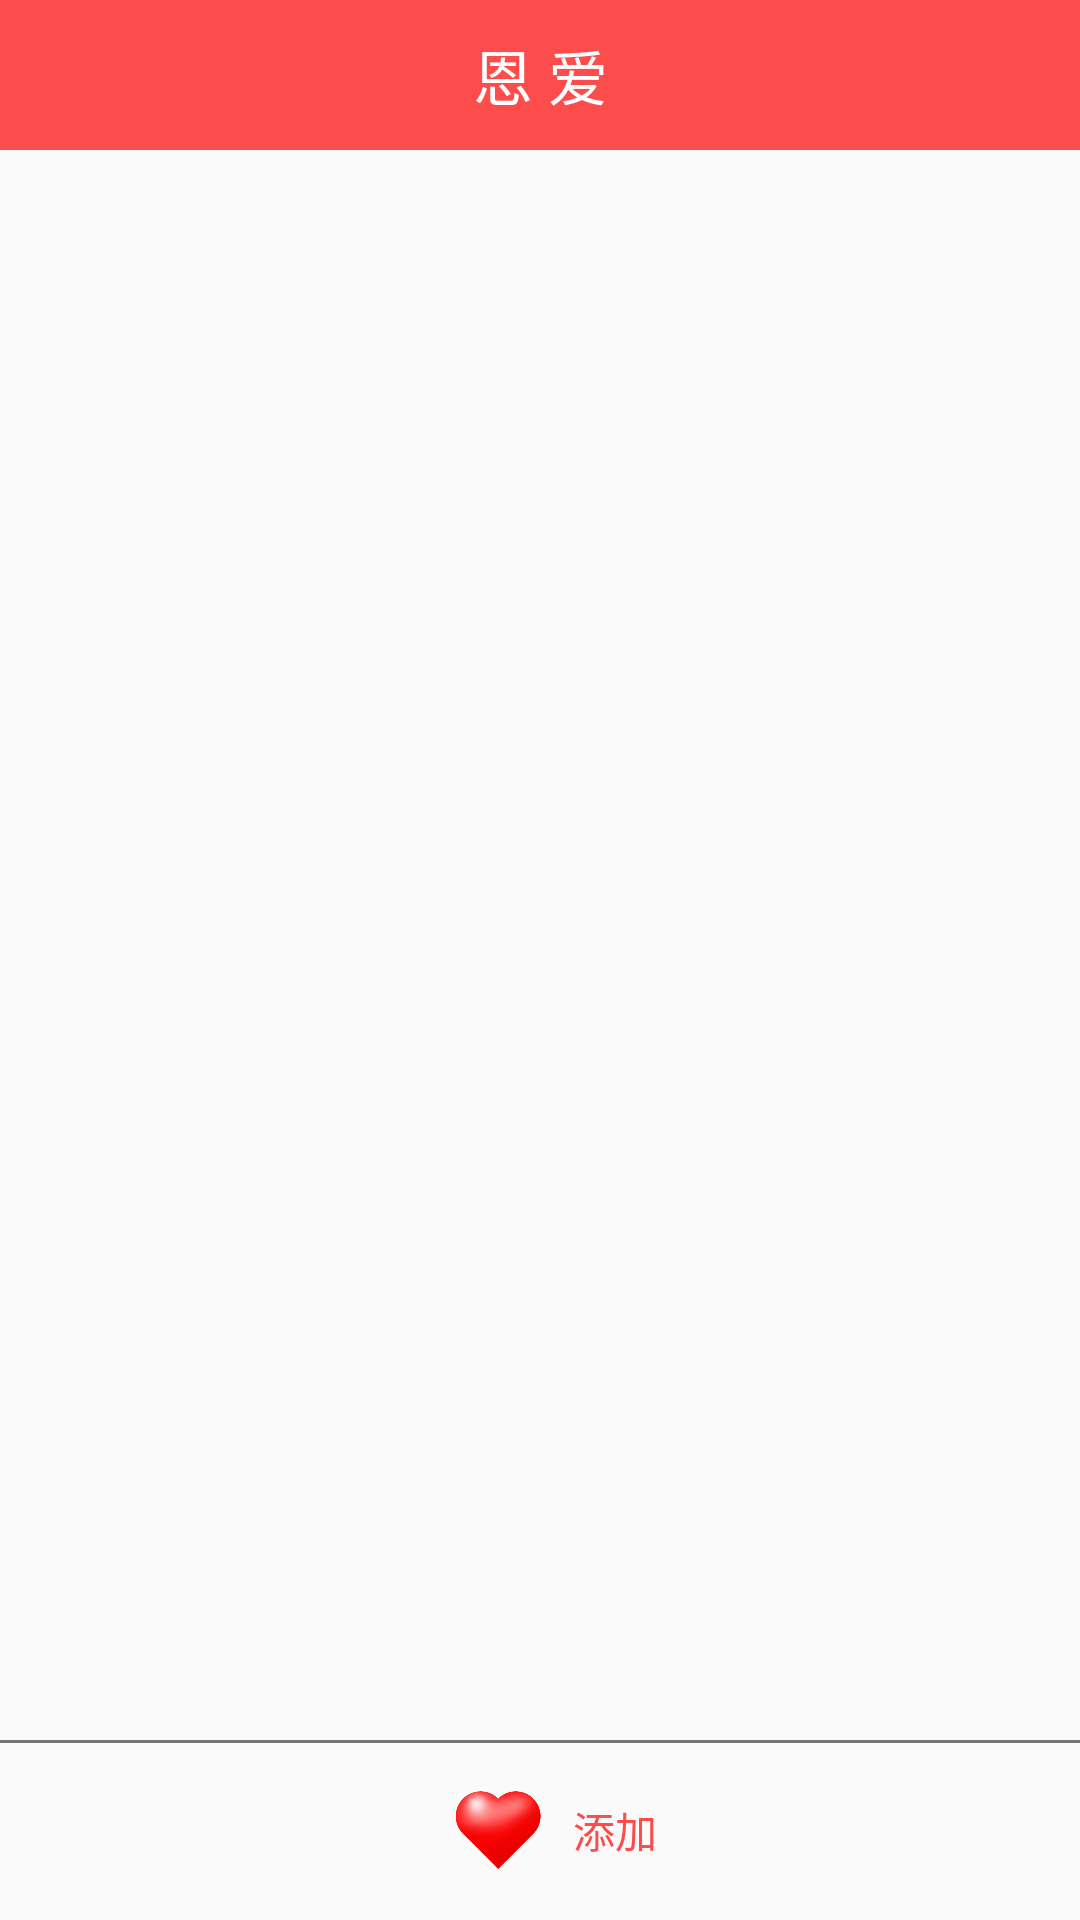

Named icons in this screenshot (1080w x 1920h) and their bounding boxes, (x1, y1, x2, y2):
yl heart: (456, 1791, 541, 1869)
